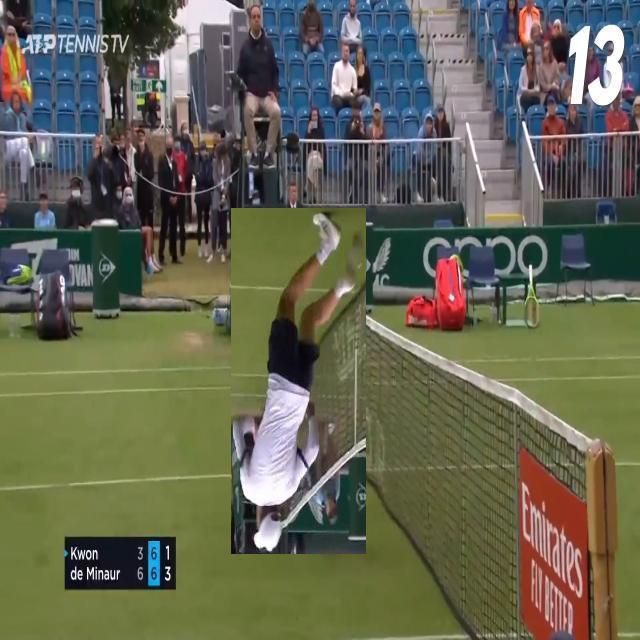player: (231, 208, 366, 554)
